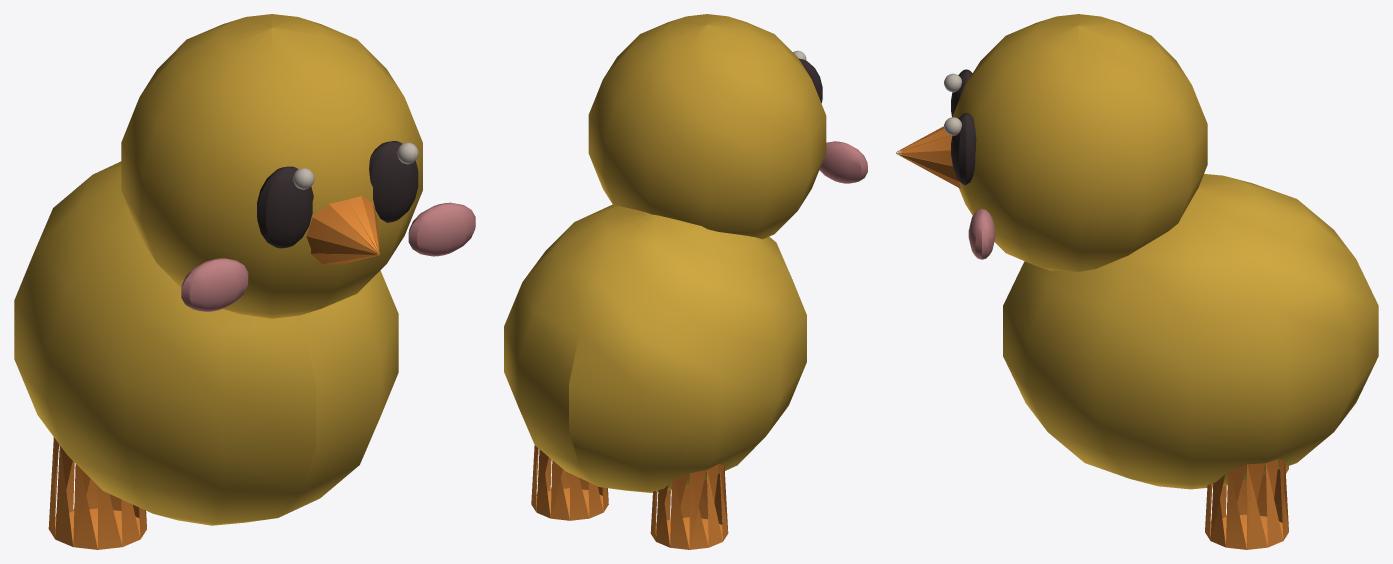
File: p24822eee.glb
The picture shows the model from 3 angles, left to right: view 1: azimuth 30°, elevation 25°; view 2: azimuth 150°, elevation 25°; view 3: azimuth 270°, elevation 25°; orthographic projection. The views are drawn at different scales.
Visible parts, largest first — view 1: pet_p24822eee; view 2: pet_p24822eee; view 3: pet_p24822eee.
Boxes of the visible parts, x1,y1,x2,y2 form: pet_p24822eee: (14, 14, 475, 549); pet_p24822eee: (504, 14, 867, 549); pet_p24822eee: (896, 14, 1378, 549).
Size of the model in its own units: 0.3348 by 0.56 by 0.5159.
